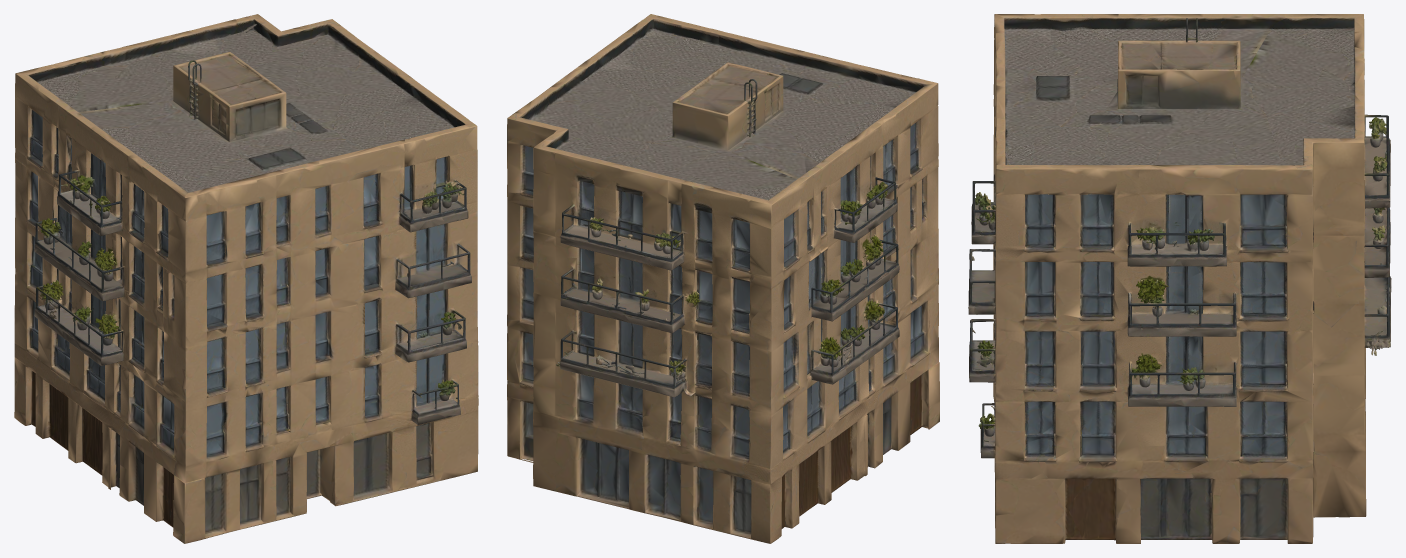
The model's file is resblock.glb.
3 views of the same model, side by side, from view 1: azimuth 30°, elevation 25°; view 2: azimuth 150°, elevation 25°; view 3: azimuth 270°, elevation 25° (orthographic). The views are drawn at different scales.
Parts seen in each view (by area): view 1: mesh_node; view 2: mesh_node; view 3: mesh_node.
Boxes of the visible parts, x1=… form: mesh_node: x1=14, y1=14, x2=478, y2=543; mesh_node: x1=507, y1=14, x2=939, y2=543; mesh_node: x1=968, y1=14, x2=1391, y2=543.
Size of the model in its own units: 1.73 by 1.9 by 1.72.
1 material, 1 textured.
